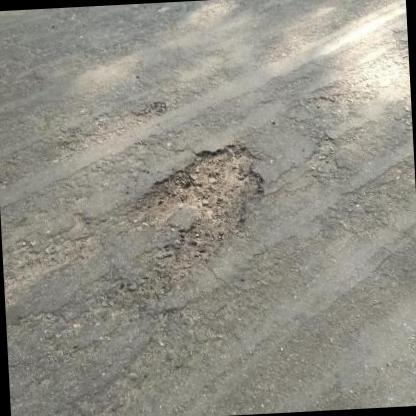pothole: (124, 138, 272, 286)
